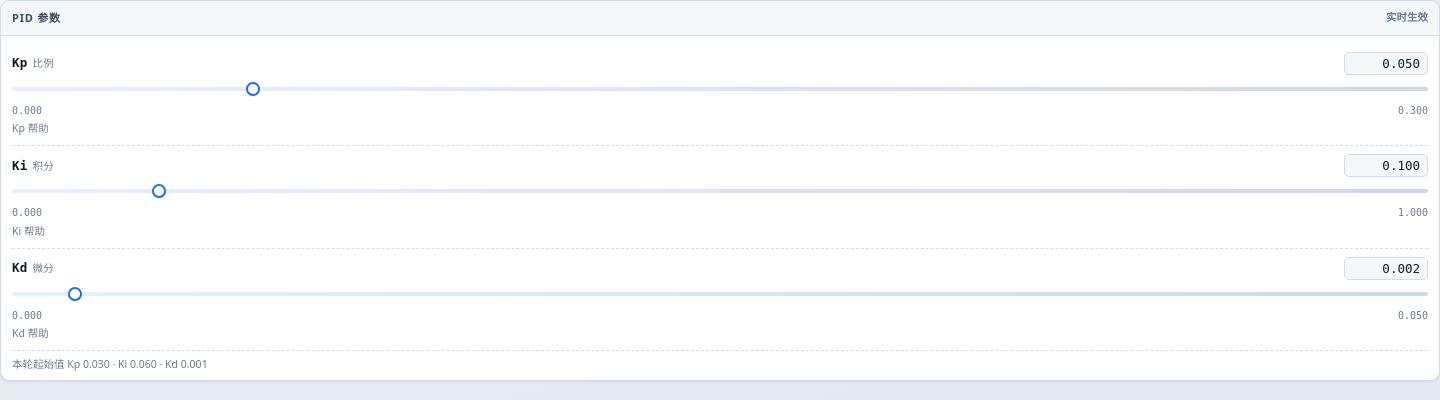
Test: PidPanel › an out of range value is rejected, shown as an error and reverted
Replace the text in the field named "Kp 数值输入" with "99" at (1386, 63), box [1344,52,1428,75]
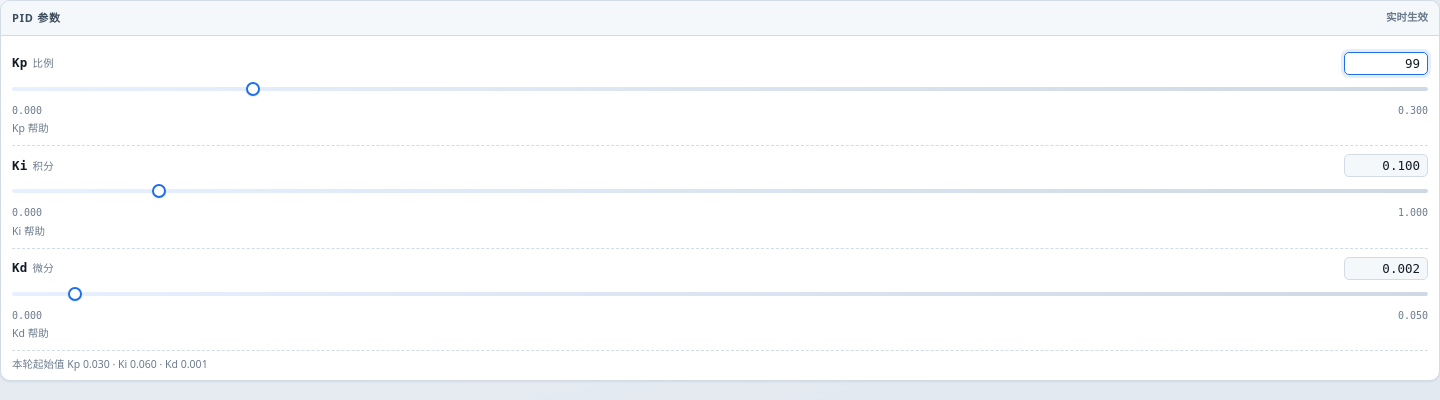
Press Tab
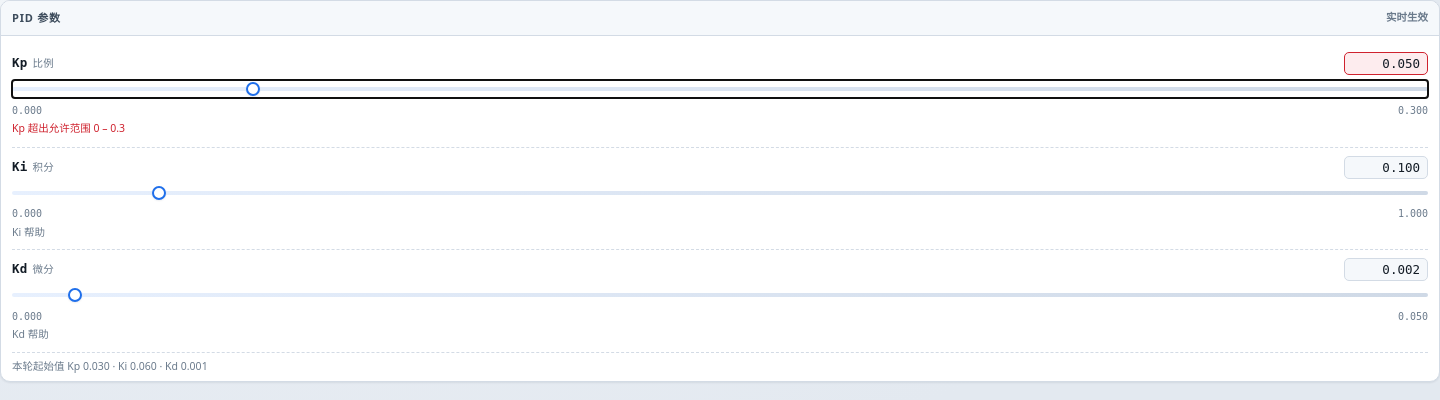
Check: the text "Kp 超出允许范围 0 – 0.3" is shown, box [12,121,125,135]
Check: the field named "Kp 数值输入" holds "0.050", box [1344,52,1428,75]
